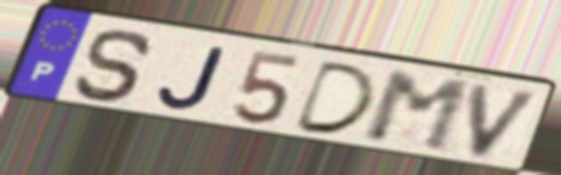5: (227, 47, 306, 127)
D: (288, 58, 382, 138)
J: (155, 44, 230, 113)
M: (361, 69, 475, 156)
S: (70, 27, 158, 106)
V: (468, 81, 548, 162)
